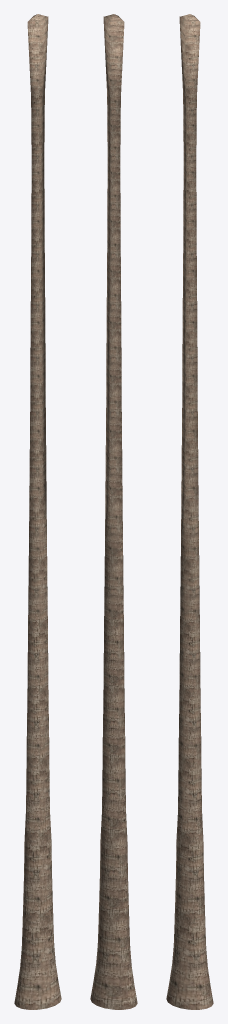
File: m_palm_p2_5_trunk_0.001.glb
3 renders of one model, left to right at view 1: azimuth 30°, elevation 25°; view 2: azimuth 150°, elevation 25°; view 3: azimuth 330°, elevation 25°, orthographic.
Visible parts, largest first — view 1: M_Palm_P2_5_Trunk_0.001; view 2: M_Palm_P2_5_Trunk_0.001; view 3: M_Palm_P2_5_Trunk_0.001.
Boxes of the visible parts, x1,y1,x2,y2 form: M_Palm_P2_5_Trunk_0.001: (14, 14, 61, 1009); M_Palm_P2_5_Trunk_0.001: (90, 14, 137, 1009); M_Palm_P2_5_Trunk_0.001: (166, 14, 213, 1009).
Size of the model in its own units: 0.4433 by 9.67 by 0.3401.
Materials: 1 (1 with a texture image).
